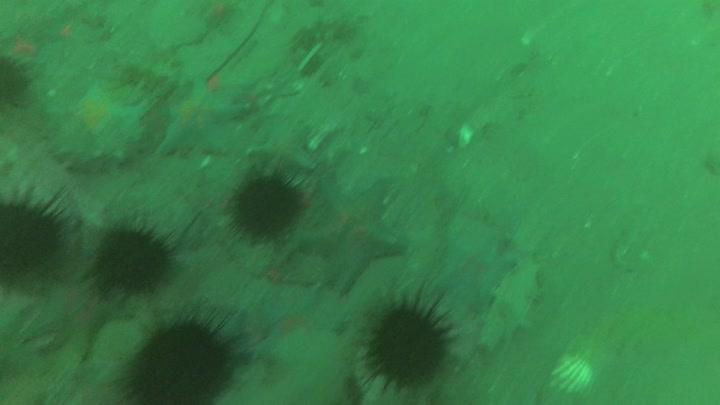urchin: (361, 293, 466, 397), (135, 327, 231, 405), (1, 194, 73, 283), (227, 165, 304, 237), (100, 227, 178, 297), (1, 61, 33, 107)
